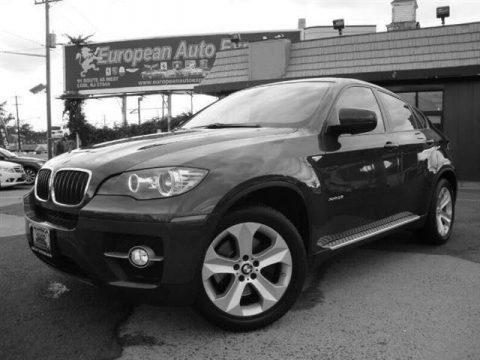car: (20, 75, 462, 331)
